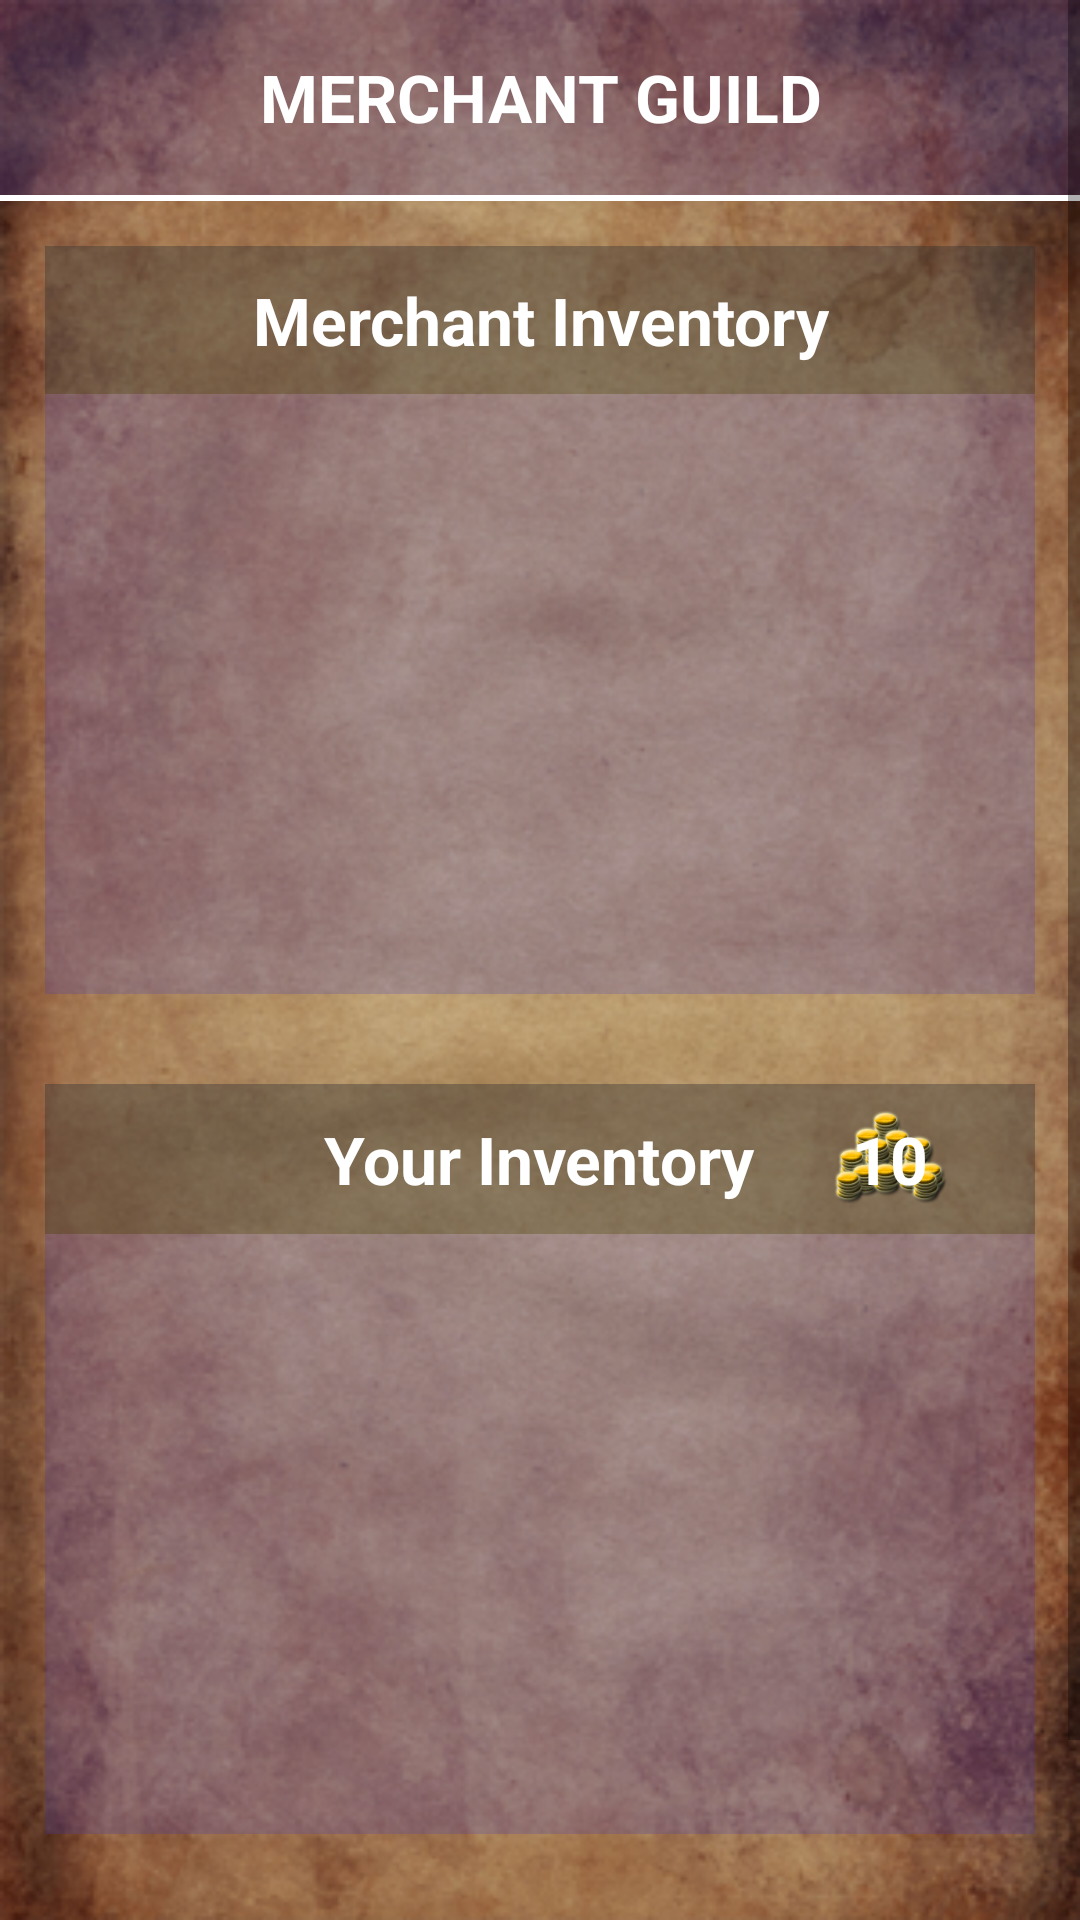

Locate icon controls on the screen. Image size 1080px x 1920px, boxes as detection(x1, y1, x2, y2).
gold: detection(836, 1112, 946, 1202)
